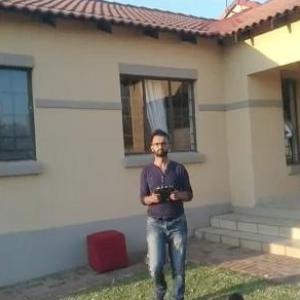follow: (131, 126, 194, 299)
